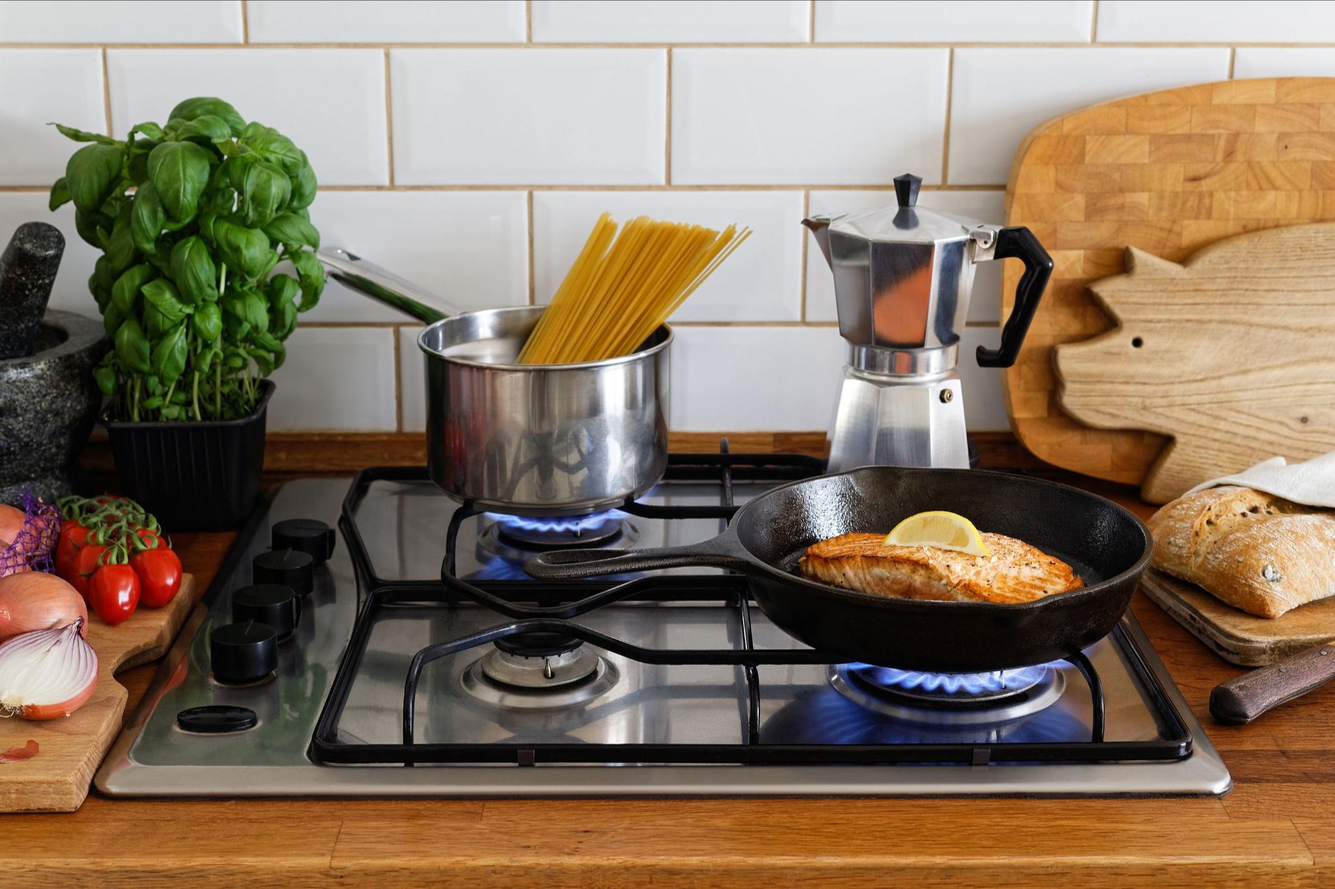controlled_fire: (835, 600, 1104, 728), (459, 432, 665, 565)
